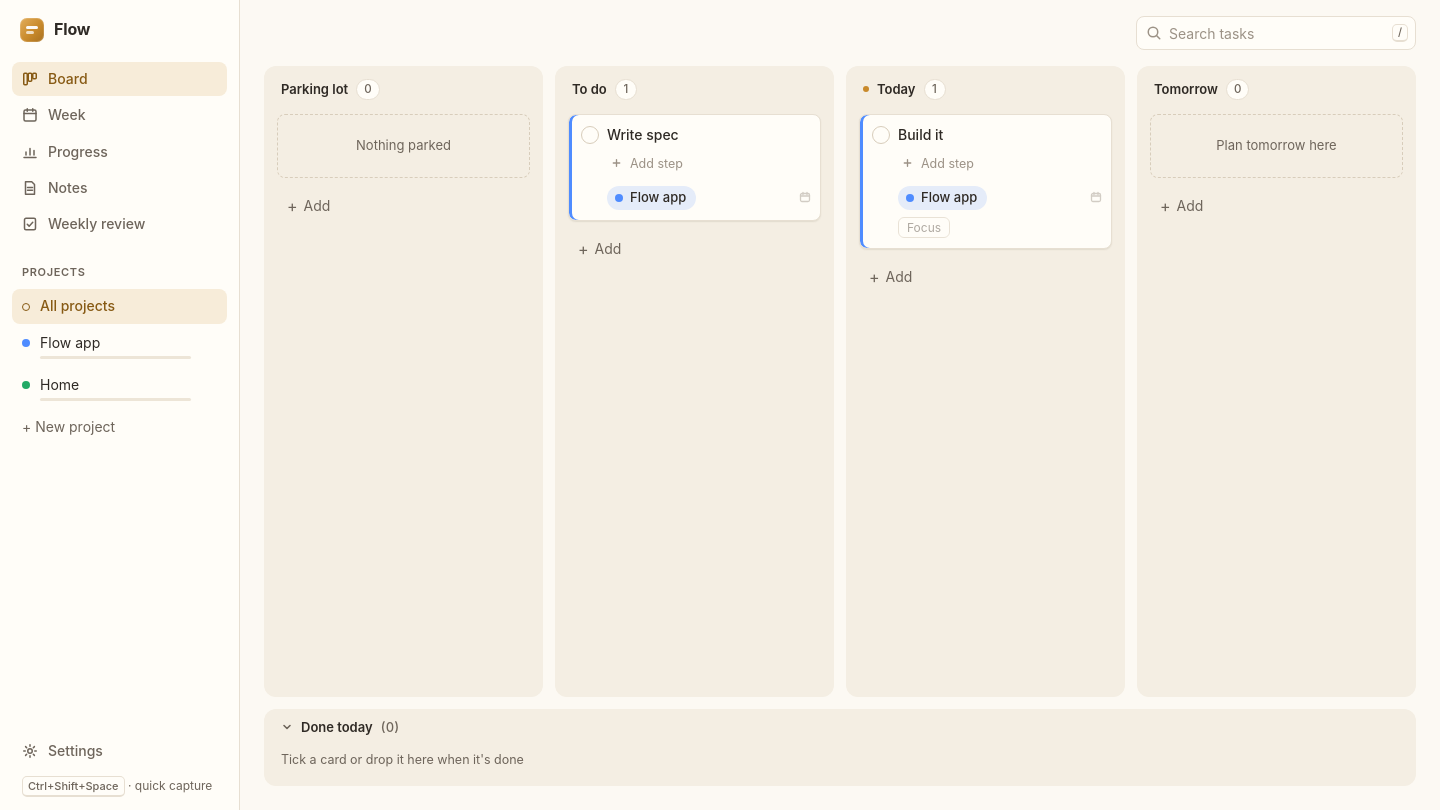
Review my week › Copy puts the answer on the clipboard
Expected: the heading "To do" is shown, left=572, top=80, right=607, bottom=99
Type keys "p"
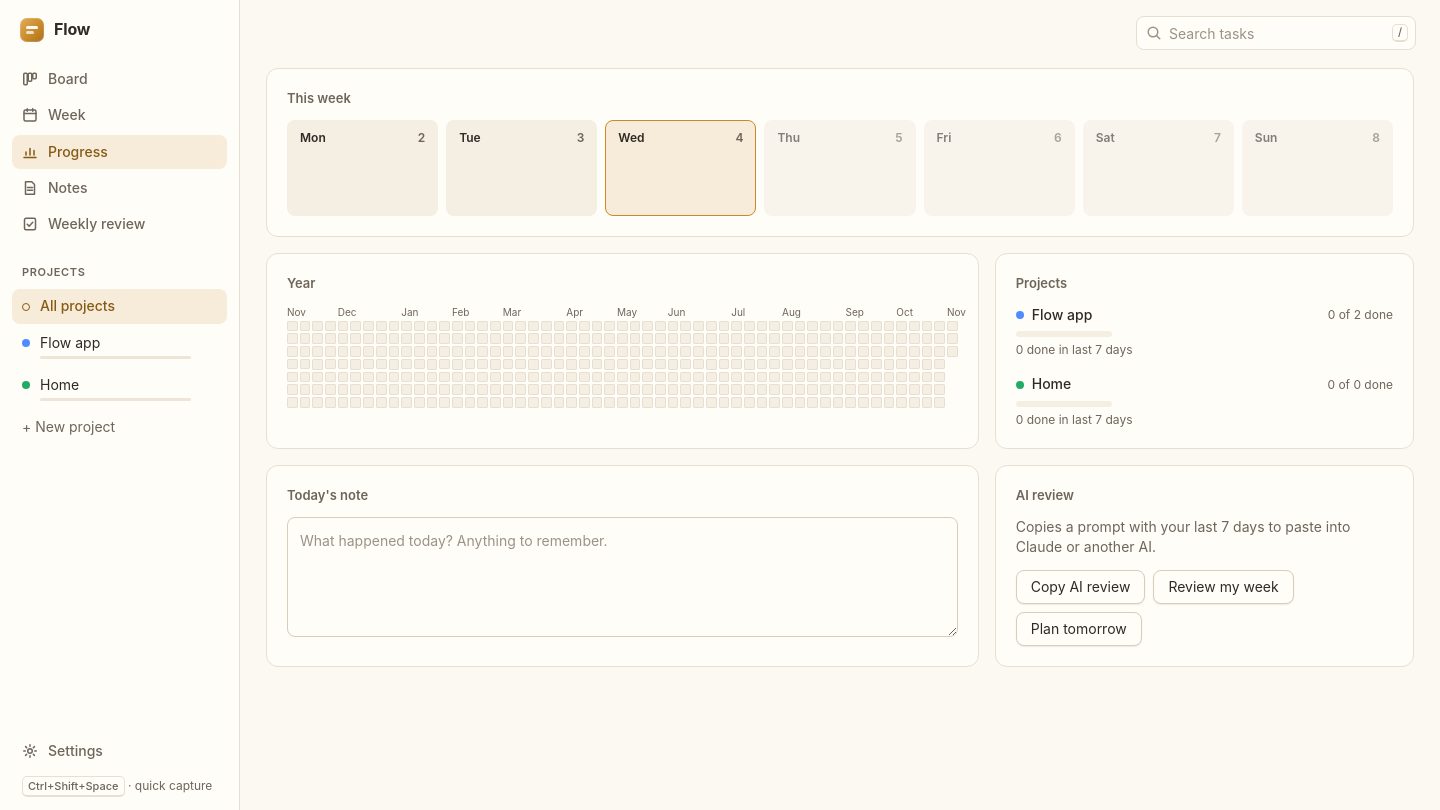
Result: the element named "Progress" is shown
Click the button "Review my week". click: (1224, 587)
box: left=1153, top=570, right=1294, bottom=604
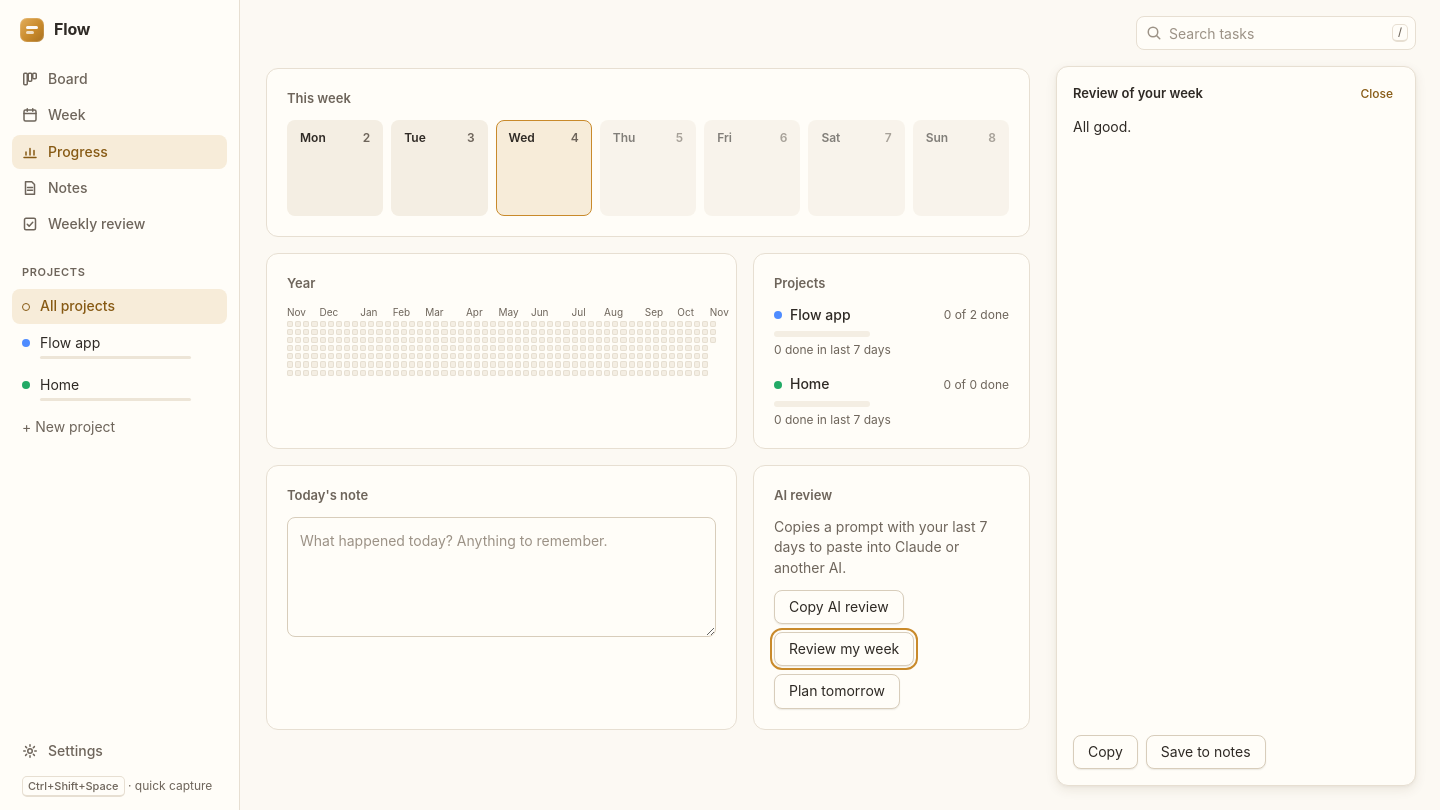
Click the button "Copy". click: (1105, 752)
box: left=1073, top=735, right=1138, bottom=769
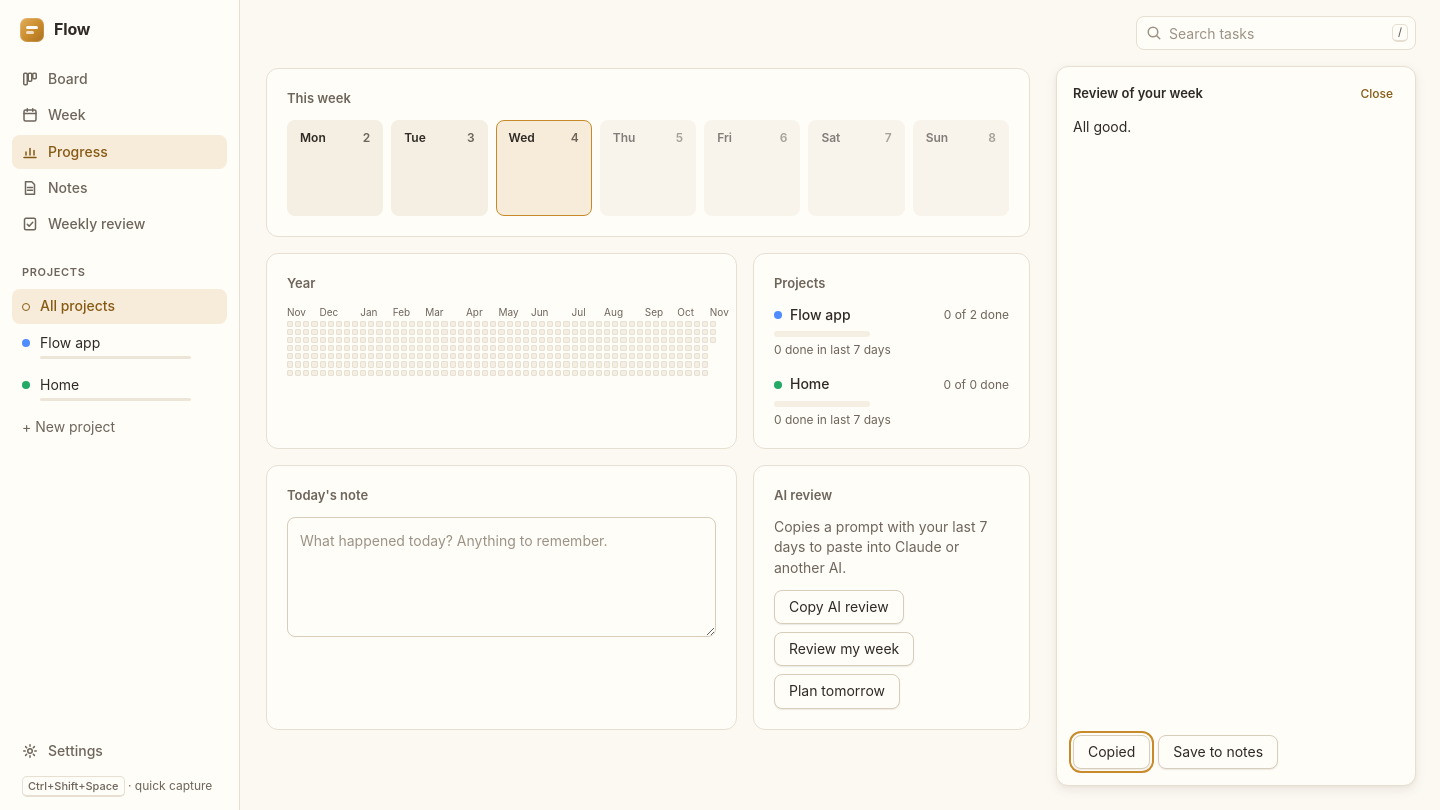
Result: the button "Copied" is shown at left=1073, top=735, right=1150, bottom=769
